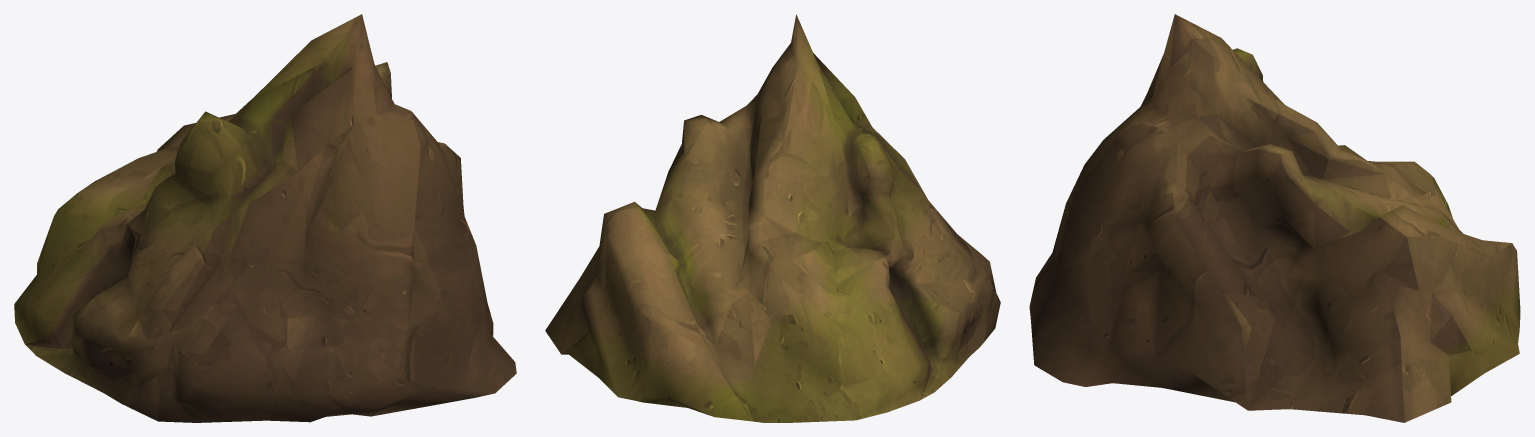
The model's file is ObjFarObject.fbx.
3 renders of one model, left to right at view 1: azimuth 30°, elevation 25°; view 2: azimuth 150°, elevation 25°; view 3: azimuth 270°, elevation 25°, orthographic. The views are drawn at different scales.
Visible parts, largest first — view 1: Obj_FarObject_mountain; view 2: Obj_FarObject_mountain; view 3: Obj_FarObject_mountain.
Boxes of the visible parts, x1,y1,x2,y2 form: Obj_FarObject_mountain: [14, 14, 516, 422]; Obj_FarObject_mountain: [545, 14, 1000, 422]; Obj_FarObject_mountain: [1029, 14, 1520, 422].
Size of the model in its own units: 5.63 by 4.25 by 5.84.
